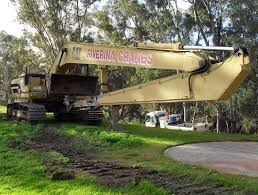excavator: (5, 41, 253, 125)
